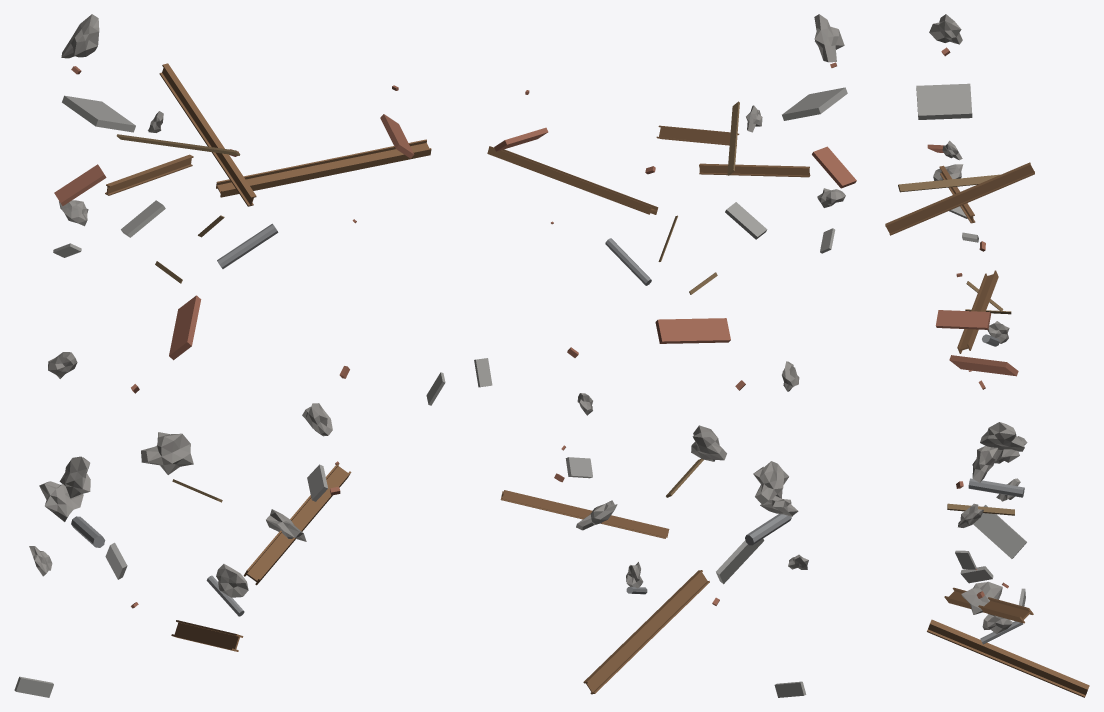
Rendered from batch_RUBBLE_n001_p004.glb.
3 views of the same model, side by side, from view 1: azimuth 30°, elevation 25°; view 2: azimuth 150°, elevation 25°; view 3: azimuth 270°, elevation 25° (orthographic). The views are drawn at different scales.
Parts seen in each view (by area): view 1: SAR_Rubble_004_Piece_0001.001; view 2: SAR_Rubble_004_Piece_0001.001; view 3: SAR_Rubble_004_Piece_0001.001.
Boxes of the visible parts, <box> form: SAR_Rubble_004_Piece_0001.001: <box>14,14,445,697</box>; SAR_Rubble_004_Piece_0001.001: <box>474,14,856,697</box>; SAR_Rubble_004_Piece_0001.001: <box>885,14,1089,697</box>.
Size of the model in its own units: 16.16 by 27.92 by 8.42.
